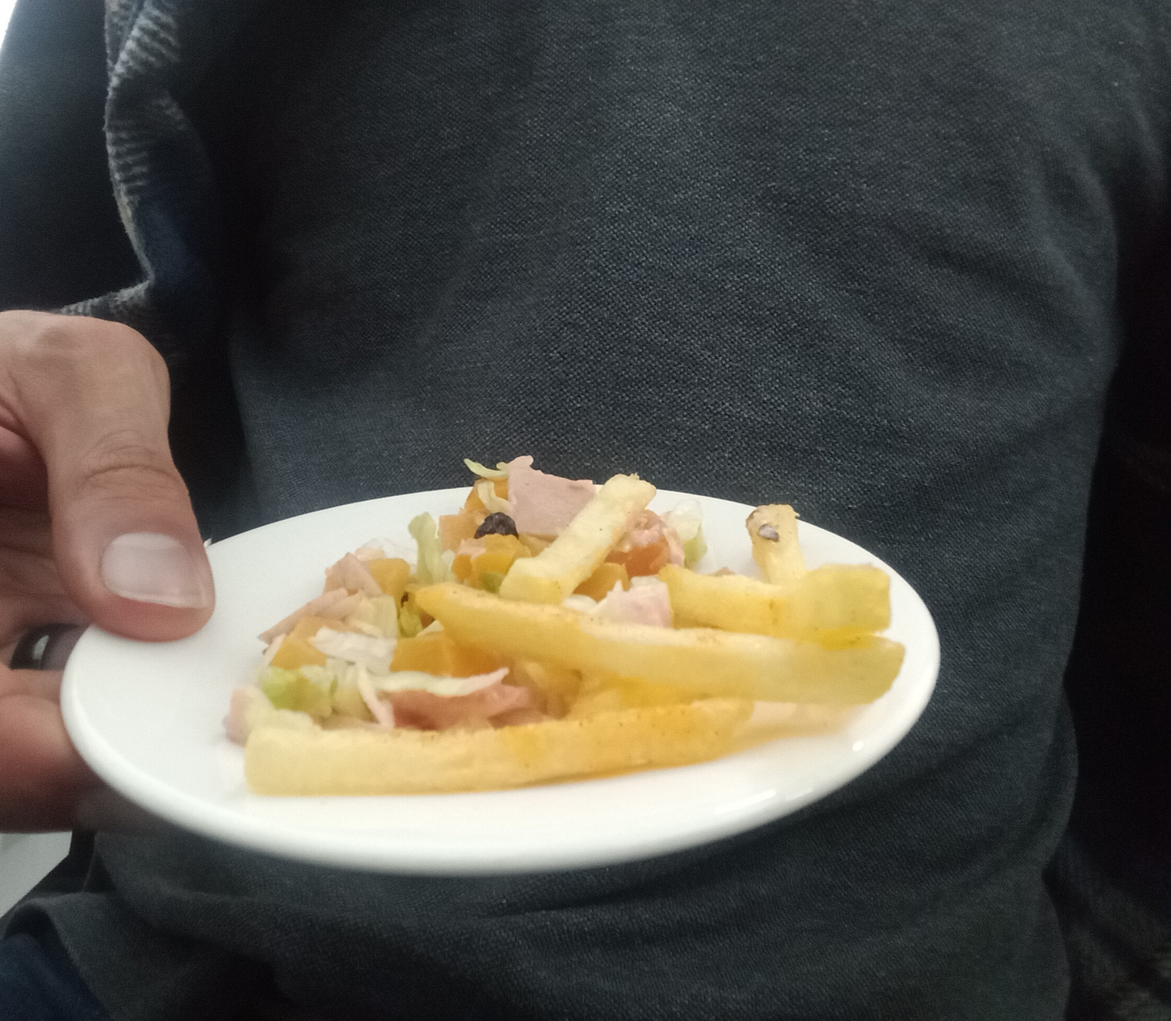Organico: (229, 457, 906, 800)
